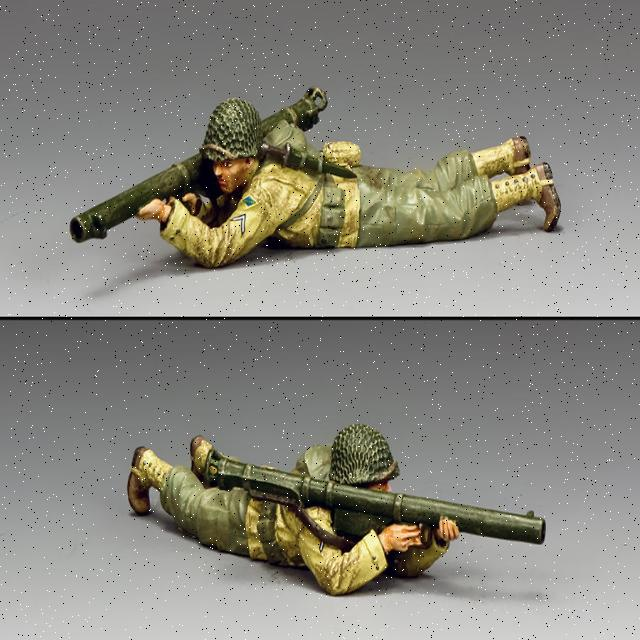bazooka: (66, 82, 330, 247), (204, 444, 554, 550)
